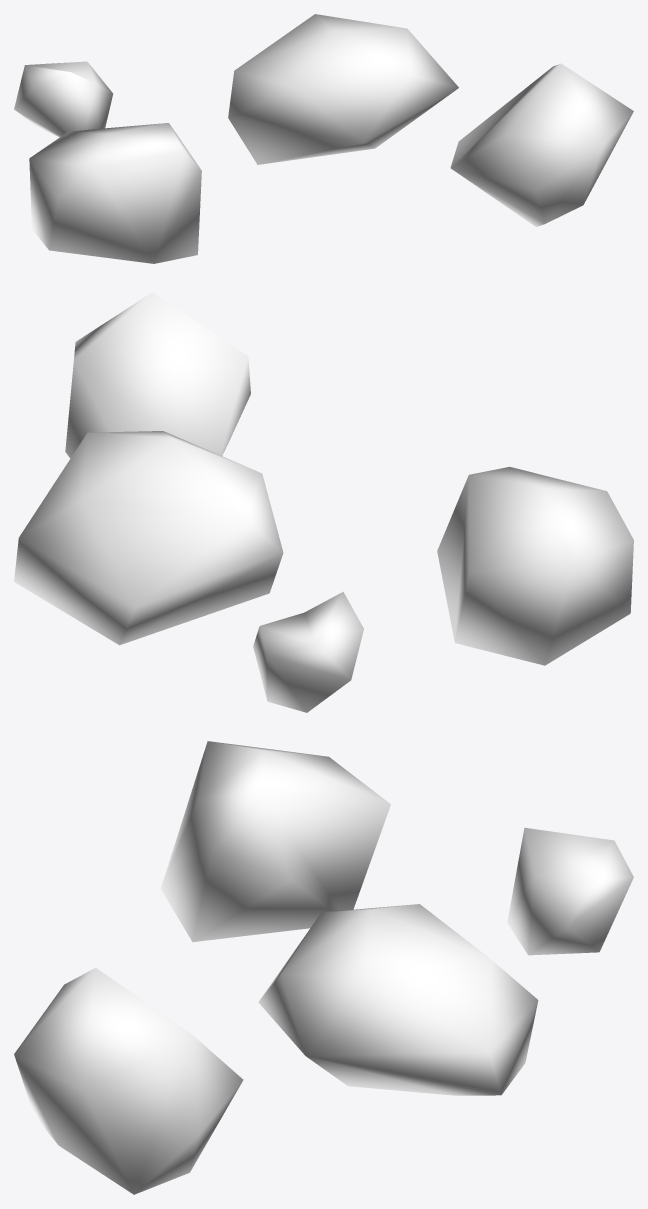
The model's file is Deco_Pebbles_Collider_None.glb.
The picture shows the model from 3 angles, top to bottom: view 1: azimuth 30°, elevation 25°; view 2: azimuth 150°, elevation 25°; view 3: azimuth 270°, elevation 25°; orthographic projection. The views are drawn at different scales.
Visible parts, largest first — view 1: Deco_Pebbles_Collider_None; view 2: Deco_Pebbles_Collider_None; view 3: Deco_Pebbles_Collider_None.
Boxes of the visible parts, box(x1,y1,x2,y2) form: Deco_Pebbles_Collider_None: box(14, 14, 633, 263); Deco_Pebbles_Collider_None: box(14, 292, 633, 712); Deco_Pebbles_Collider_None: box(14, 741, 633, 1194).
Bounding box in the file's own units: 2.07 × 0.6545 × 1.63.
1 material, 1 textured.
